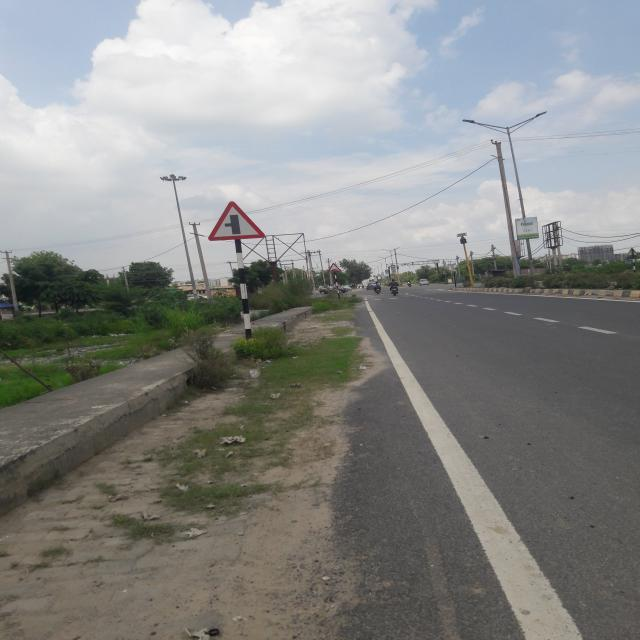side road left: (208, 201, 265, 241)
